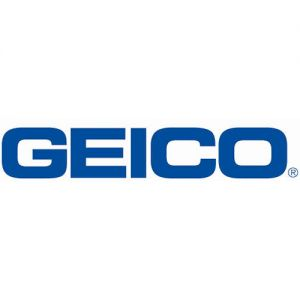Geico: (2, 128, 290, 178)
